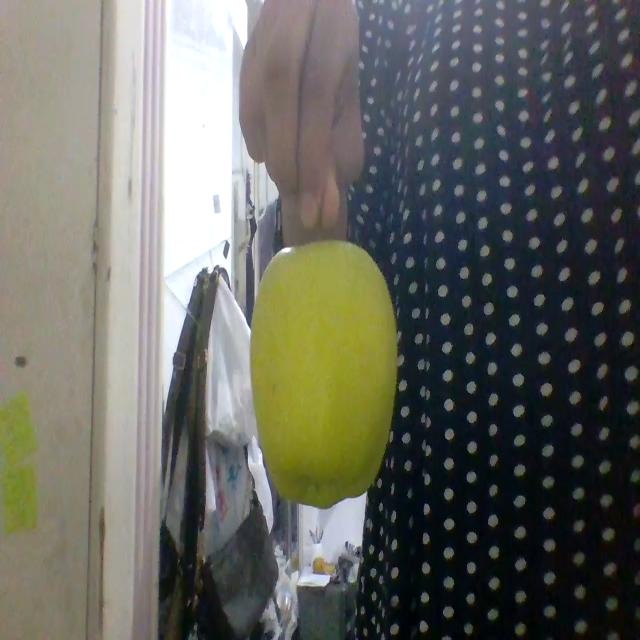50-_ripeness: (250, 239, 398, 509)
